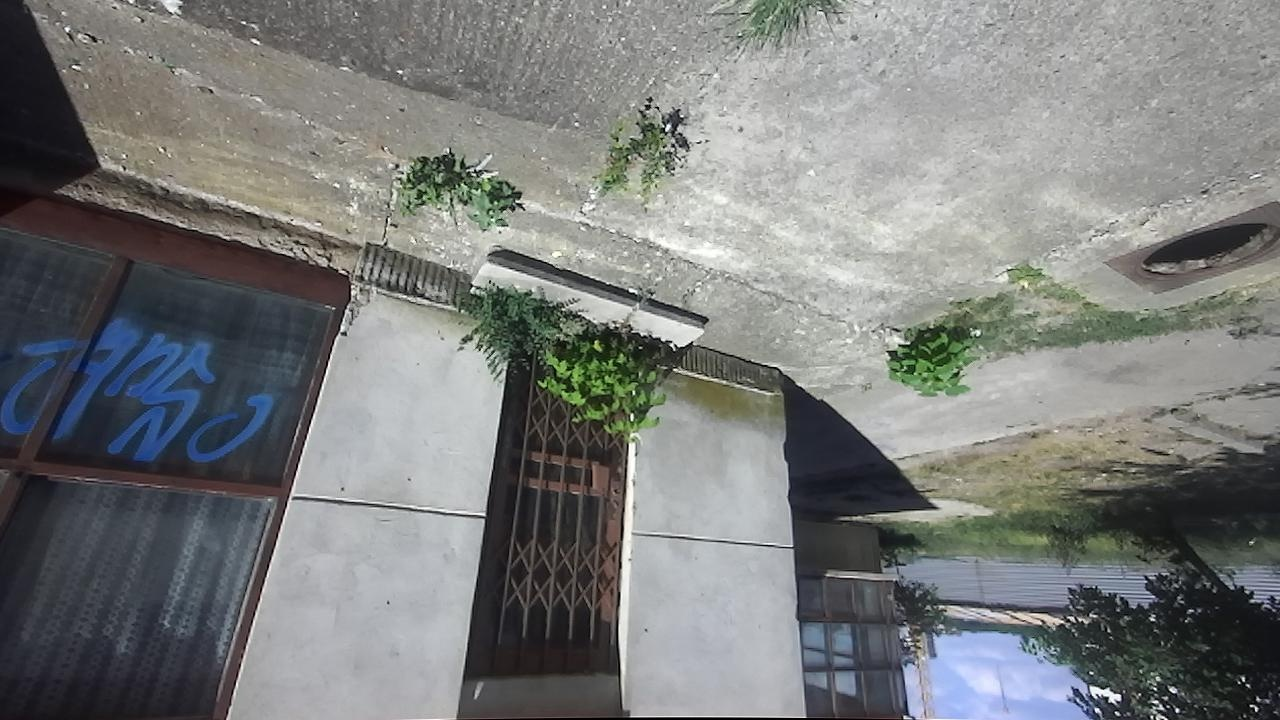drain: (1127, 217, 1279, 285)
